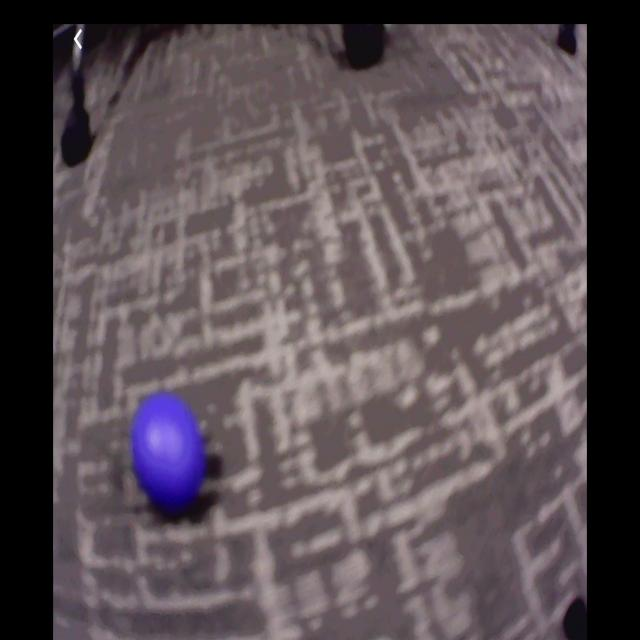ball: (133, 394, 209, 513)
